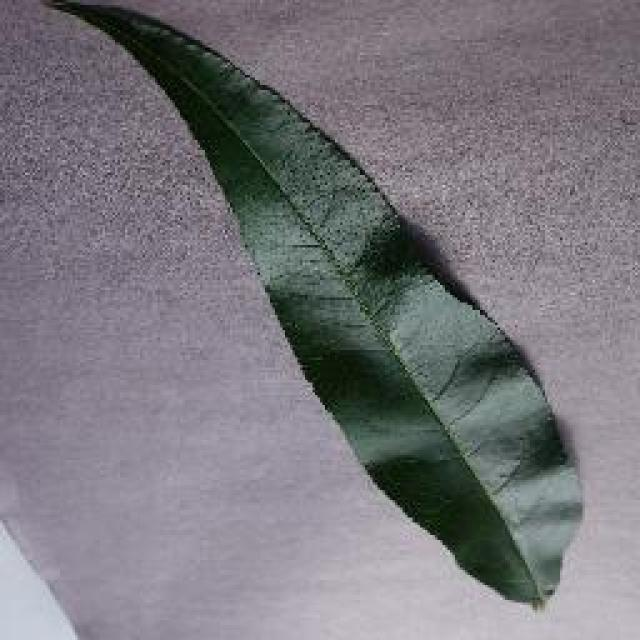Pea_healthy: (176, 28, 550, 538)
